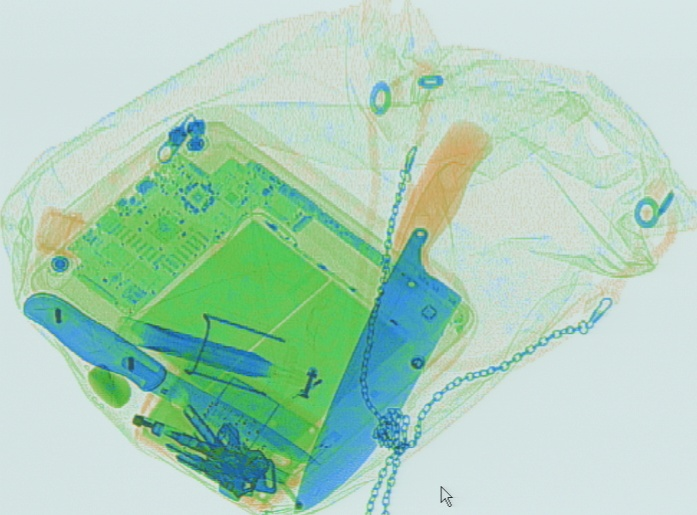knife: (295, 114, 497, 509), (21, 285, 331, 467)
